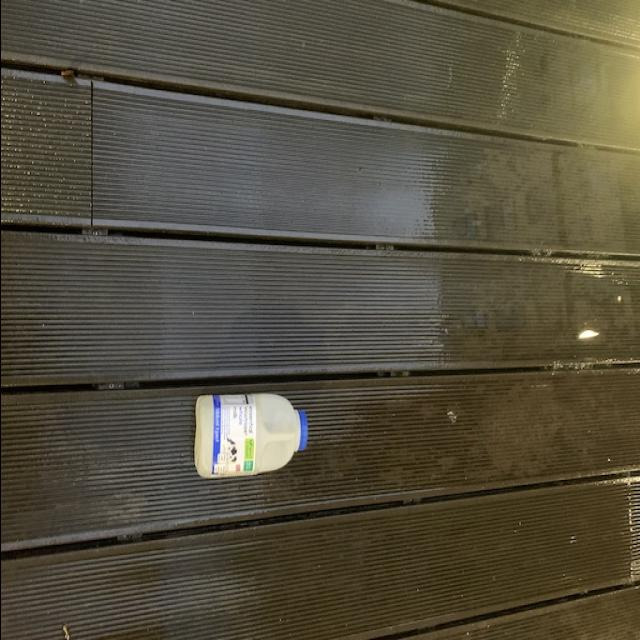HDPEM: (191, 389, 309, 481)
